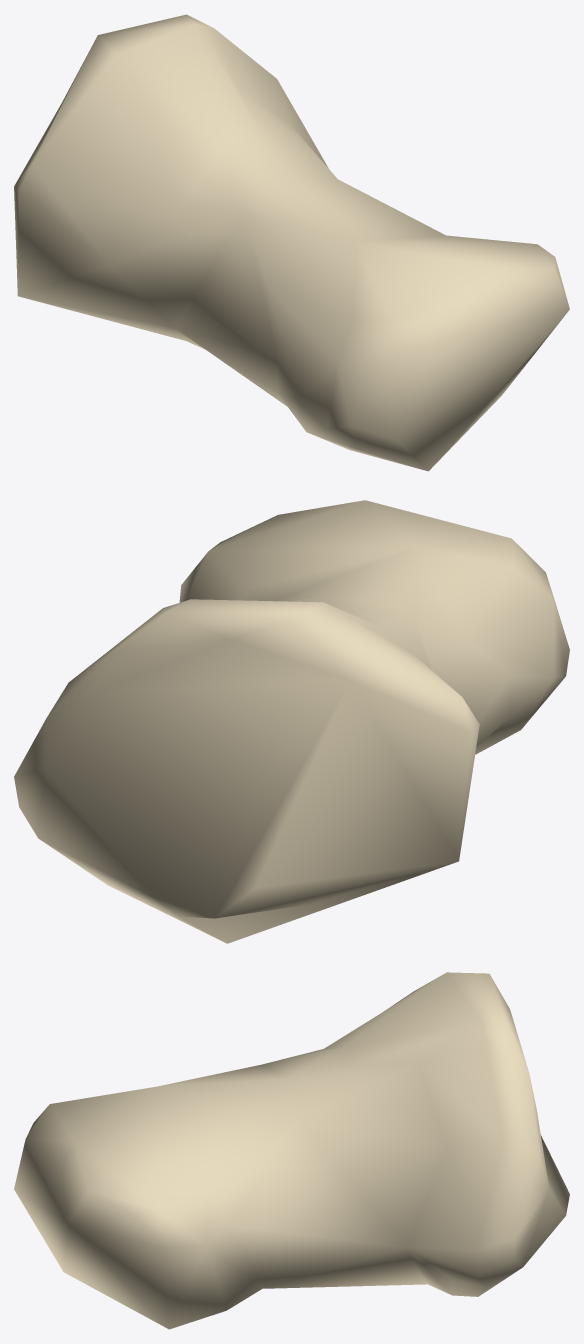
Rendered from esqueleto-distal-phalanx-of-second-finger-of-foot-l.glb.
The picture shows the model from 3 angles, top to bottom: view 1: azimuth 30°, elevation 25°; view 2: azimuth 150°, elevation 25°; view 3: azimuth 270°, elevation 25°; orthographic projection. The views are drawn at different scales.
Parts seen in each view (by area): view 1: Distal phalanx of second finger of foot.l; view 2: Distal phalanx of second finger of foot.l; view 3: Distal phalanx of second finger of foot.l.
Part boxes in pixels (<box>): Distal phalanx of second finger of foot.l: <box>14,14,569,471</box>; Distal phalanx of second finger of foot.l: <box>14,500,569,943</box>; Distal phalanx of second finger of foot.l: <box>14,972,569,1329</box>.
Bounding box in the file's own units: 0.0102 × 0.00758 × 0.0137.
